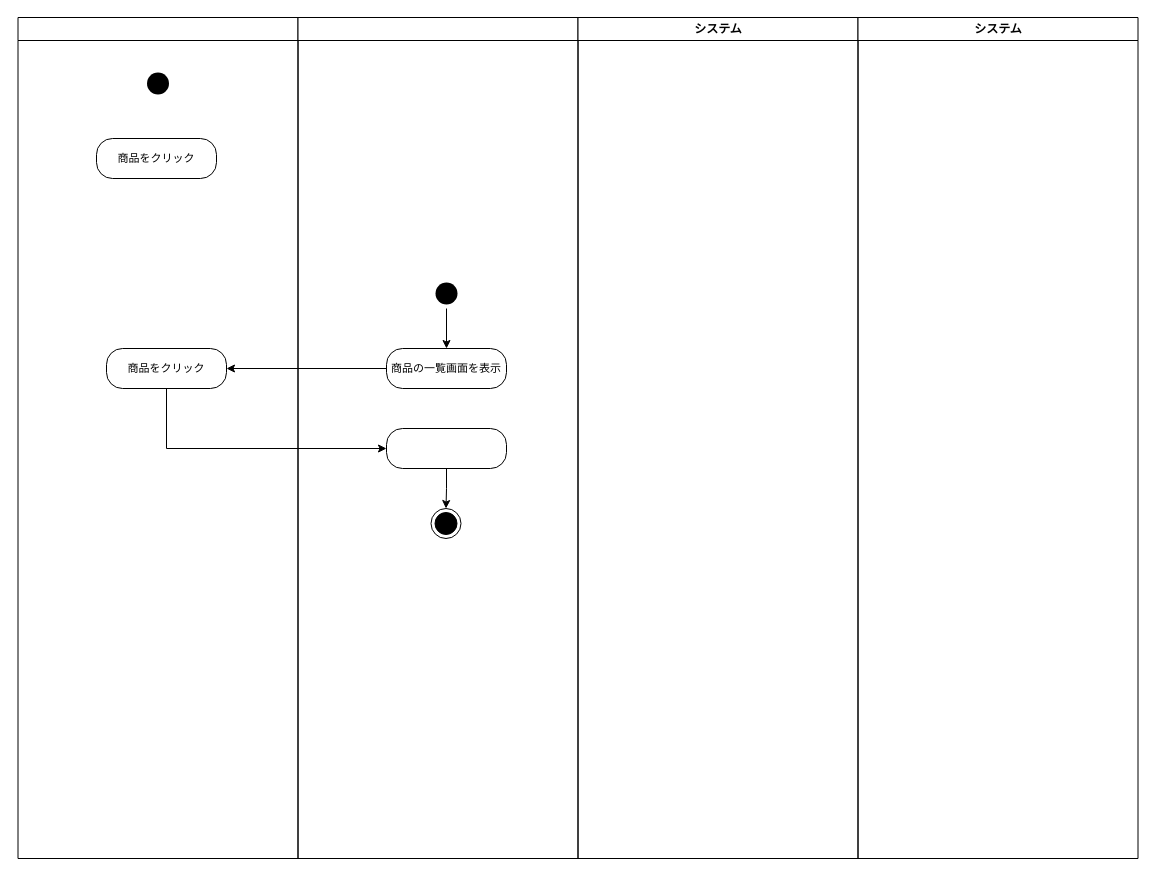
Image size: 1155x876. Some labels were removed from this diagram. The shapes that lost their labels are listed below. From the top down, each one's box as (x1, y1, x2, y2) in pixels, then its label:
(17, 16, 298, 858): 販売管理者/ 販売担当/購入ユーザー
(297, 16, 578, 858): ECサイト画面
(386, 428, 506, 468): 商品の詳細画面を表示
